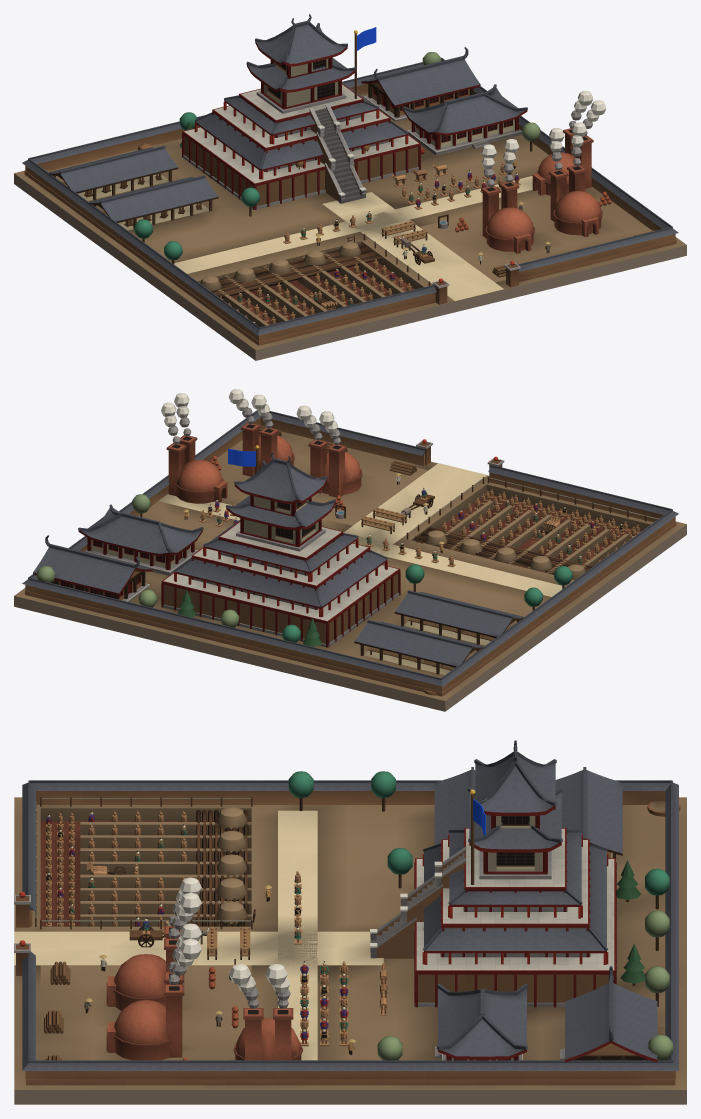
File: lm_topraksavasci.glb
3 renders of one model, top to bottom at view 1: azimuth 30°, elevation 25°; view 2: azimuth 150°, elevation 25°; view 3: azimuth 270°, elevation 25°, orthographic. The views are drawn at different scales.
Visible parts, largest first — view 1: lm_topraksavasci; view 2: lm_topraksavasci; view 3: lm_topraksavasci.
Part boxes in pixels (x1=…): lm_topraksavasci: x1=14, y1=14, x2=686, y2=360; lm_topraksavasci: x1=14, y1=389, x2=686, y2=711; lm_topraksavasci: x1=14, y1=740, x2=686, y2=1104.
Bounding box in the file's own units: 2.1 × 0.7443 × 2.04.
Materials: 1 (1 with a texture image).
